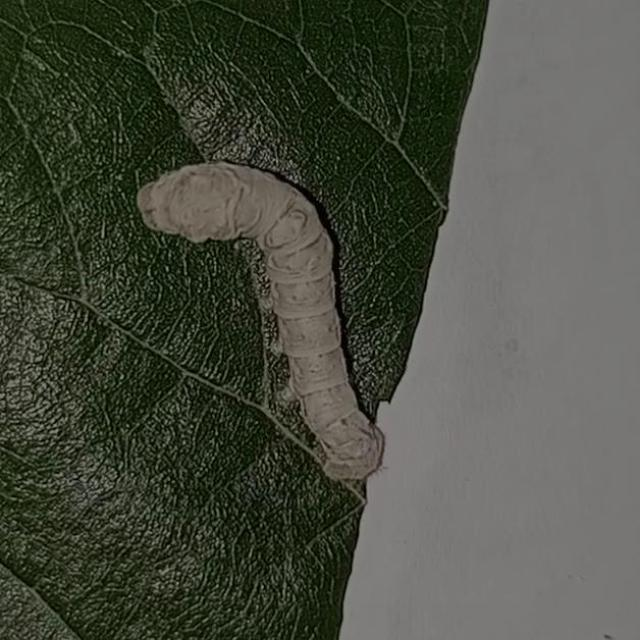Healthy: (129, 149, 392, 497)
